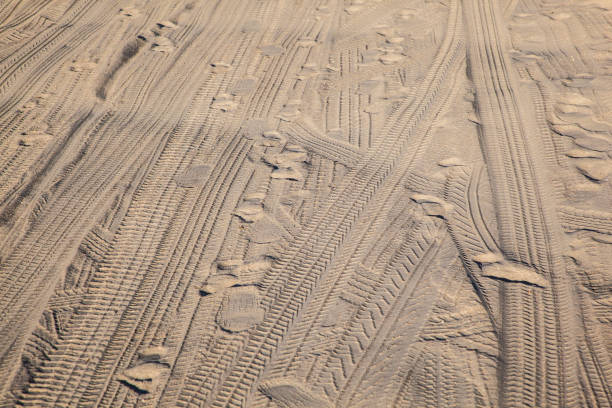human_foot_print: (211, 2, 462, 405), (0, 79, 192, 351), (464, 0, 579, 406), (24, 127, 191, 404), (265, 154, 441, 377), (280, 117, 364, 167), (212, 278, 268, 328), (554, 90, 606, 137), (478, 245, 530, 282), (142, 335, 172, 392), (564, 146, 604, 180), (142, 38, 187, 64), (420, 192, 452, 220), (18, 120, 51, 147), (26, 89, 54, 114), (241, 206, 265, 230), (269, 167, 302, 184), (154, 21, 178, 44), (380, 44, 404, 64)
